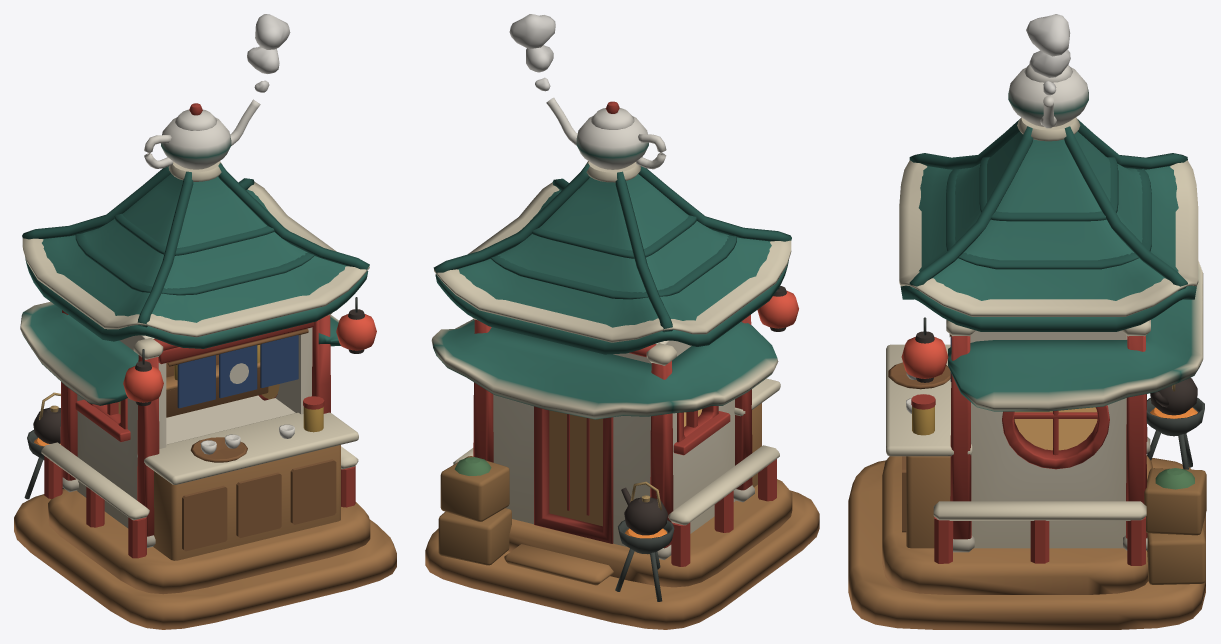
The model's file is BLD_Tea_Kiosk_A_T2.fbx.
3 views of the same model, side by side, from view 1: azimuth 30°, elevation 25°; view 2: azimuth 150°, elevation 25°; view 3: azimuth 270°, elevation 25° (orthographic). The views are drawn at different scales.
Parts seen in each view (by area): view 1: BLD_Tea_Kiosk_A_T2_Body_LOD0, BLD_Tea_Kiosk_A_T2_Noren_LOD0, BLD_Tea_Kiosk_A_T2_Puff3_LOD0, BLD_Tea_Kiosk_A_T2_Puff2_LOD0; view 2: BLD_Tea_Kiosk_A_T2_Body_LOD0, BLD_Tea_Kiosk_A_T2_Puff3_LOD0, BLD_Tea_Kiosk_A_T2_Puff2_LOD0; view 3: BLD_Tea_Kiosk_A_T2_Body_LOD0, BLD_Tea_Kiosk_A_T2_Puff3_LOD0, BLD_Tea_Kiosk_A_T2_Puff2_LOD0.
Part boxes in pixels (x1,y1,x2,y2): BLD_Tea_Kiosk_A_T2_Body_LOD0: (14, 99, 396, 629); BLD_Tea_Kiosk_A_T2_Noren_LOD0: (167, 328, 308, 408); BLD_Tea_Kiosk_A_T2_Puff3_LOD0: (255, 14, 290, 49); BLD_Tea_Kiosk_A_T2_Puff2_LOD0: (247, 46, 279, 73); BLD_Tea_Kiosk_A_T2_Body_LOD0: (425, 97, 819, 629); BLD_Tea_Kiosk_A_T2_Puff3_LOD0: (509, 14, 555, 48); BLD_Tea_Kiosk_A_T2_Puff2_LOD0: (526, 45, 553, 72); BLD_Tea_Kiosk_A_T2_Body_LOD0: (848, 64, 1206, 629); BLD_Tea_Kiosk_A_T2_Puff3_LOD0: (1026, 14, 1070, 56); BLD_Tea_Kiosk_A_T2_Puff2_LOD0: (1029, 49, 1070, 77).
Size of what is drawn, in the model's own units: 2.48 by 4.46 by 2.49.
